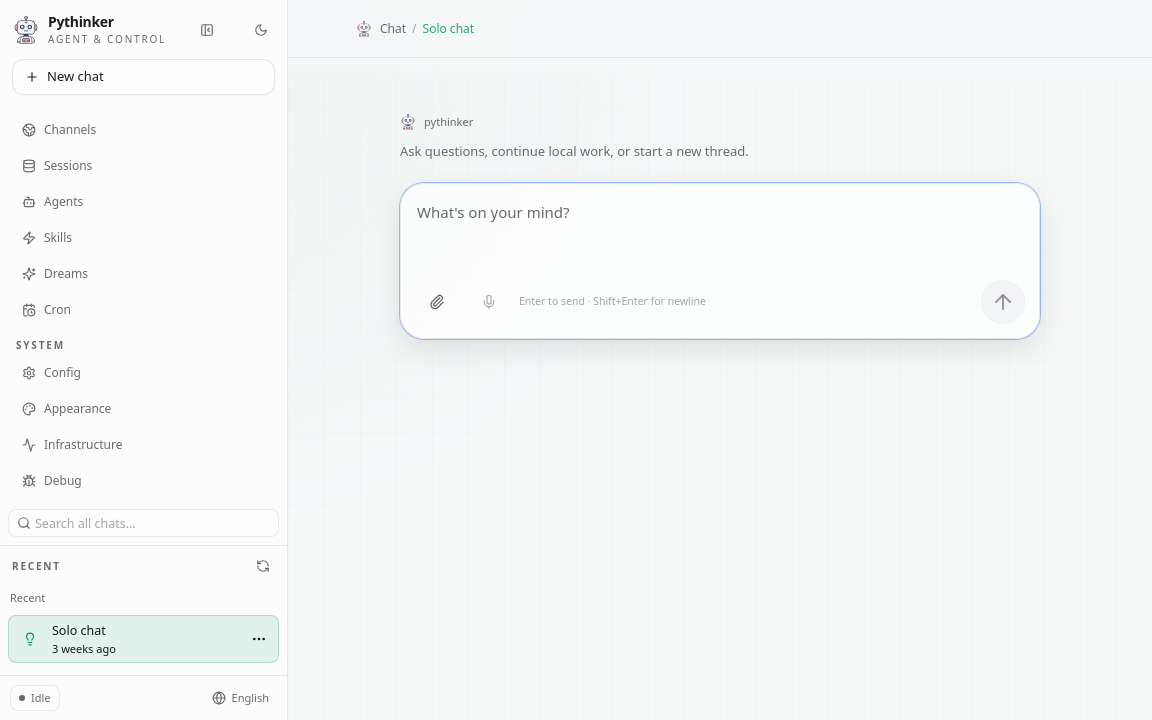
Test: App layout › shows Pin and Archive entries in the chat row dropdown menu
(page scrolled)
Step 1. Press the mouse on the button named "Chat actions for Solo chat" → (259, 639), box [247, 627, 271, 651]
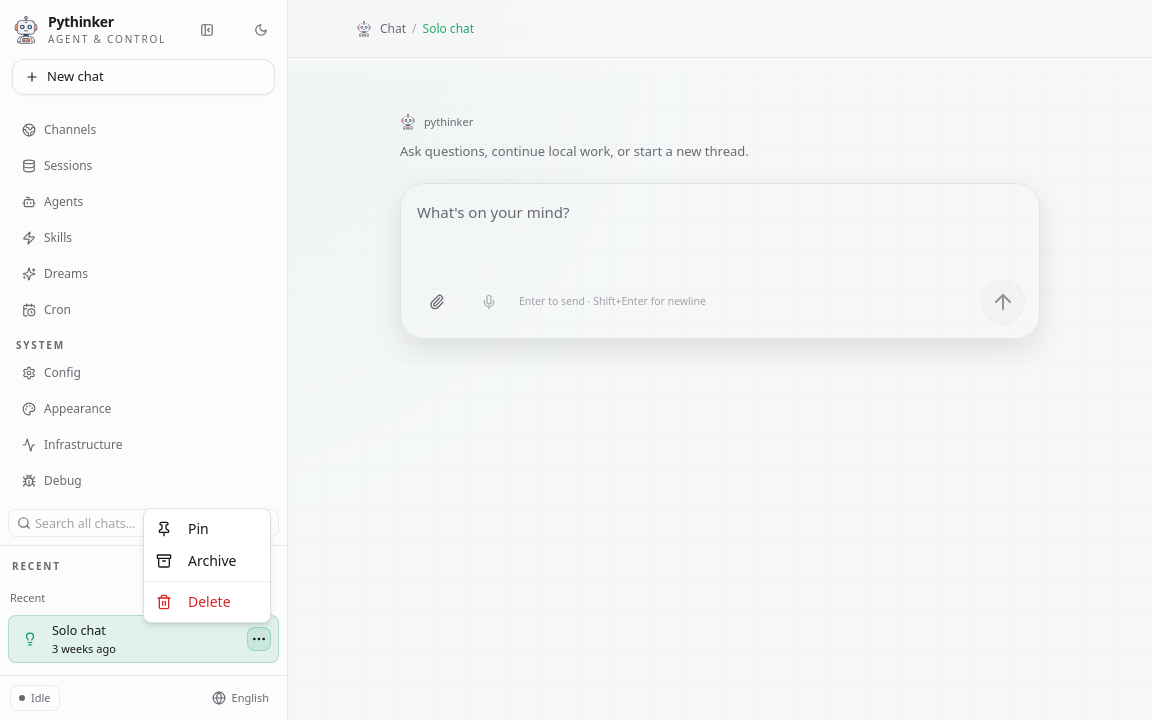
Now the menu item "Pin" is shown, box [156, 519, 209, 538]
Now the menu item "Archive" is shown, box [156, 551, 236, 570]
Now the menu item "Delete" is shown, box [156, 592, 231, 611]
